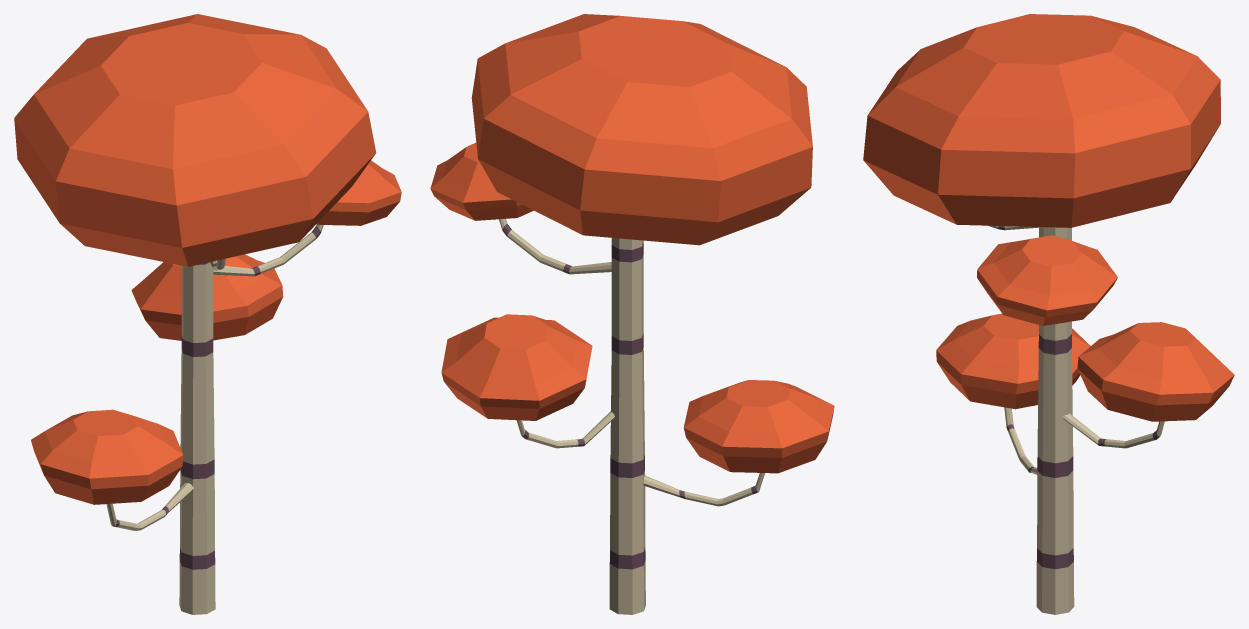
File: Tree003_V1.fbx
3 views of the same model, side by side, from view 1: azimuth 30°, elevation 25°; view 2: azimuth 150°, elevation 25°; view 3: azimuth 270°, elevation 25° (orthographic).
Visible parts, largest first — view 1: Tree003; view 2: Tree003; view 3: Tree003.
Boxes of the visible parts, x1,y1,x2,y2 form: Tree003: [14, 14, 401, 614]; Tree003: [430, 14, 834, 614]; Tree003: [863, 14, 1234, 614].
Size of the model in its own units: 4.51 by 6.51 by 3.88.
